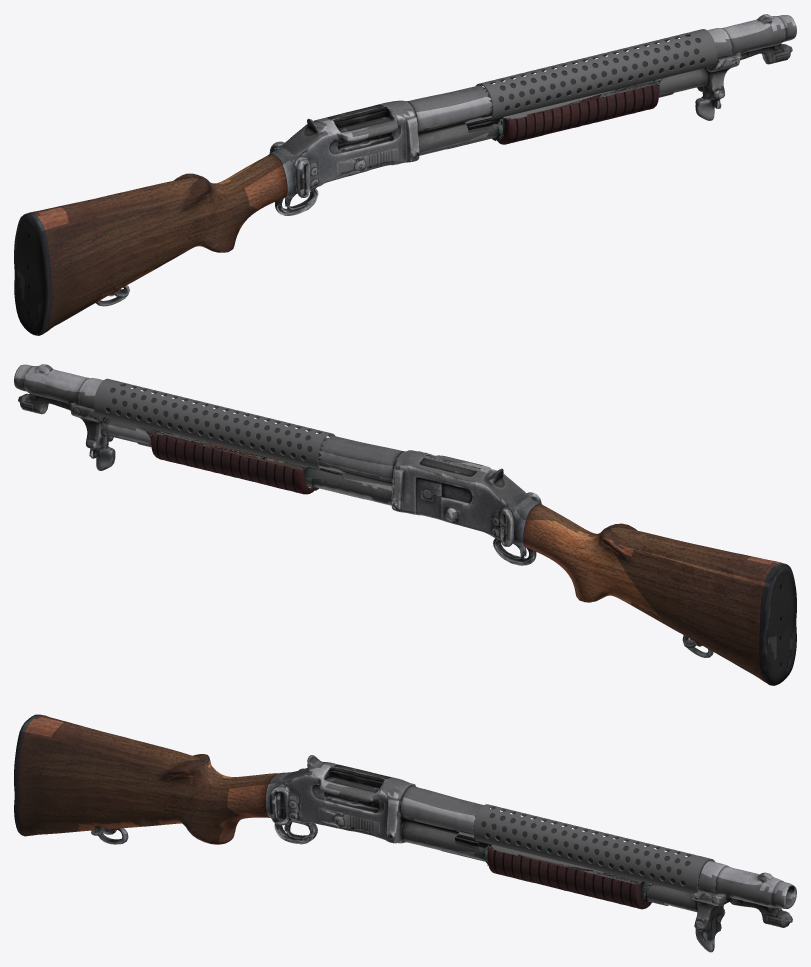
Rendered from trench_shotgun.glb.
The picture shows the model from 3 angles, top to bottom: view 1: azimuth 30°, elevation 25°; view 2: azimuth 150°, elevation 25°; view 3: azimuth 330°, elevation 25°; orthographic projection.
Parts seen in each view (by area): view 1: Body, Pump; view 2: Body, Pump; view 3: Body, Pump.
Part boxes in pixels (x1,y1,x2,y2): Body: [14, 14, 796, 335]; Pump: [466, 76, 668, 144]; Body: [14, 364, 796, 685]; Pump: [136, 425, 343, 494]; Body: [14, 714, 796, 952]; Pump: [455, 831, 661, 909].
Size of the model in its own units: 1 by 0.1829 by 0.0762.
Materials: 2 (1 with a texture image).
